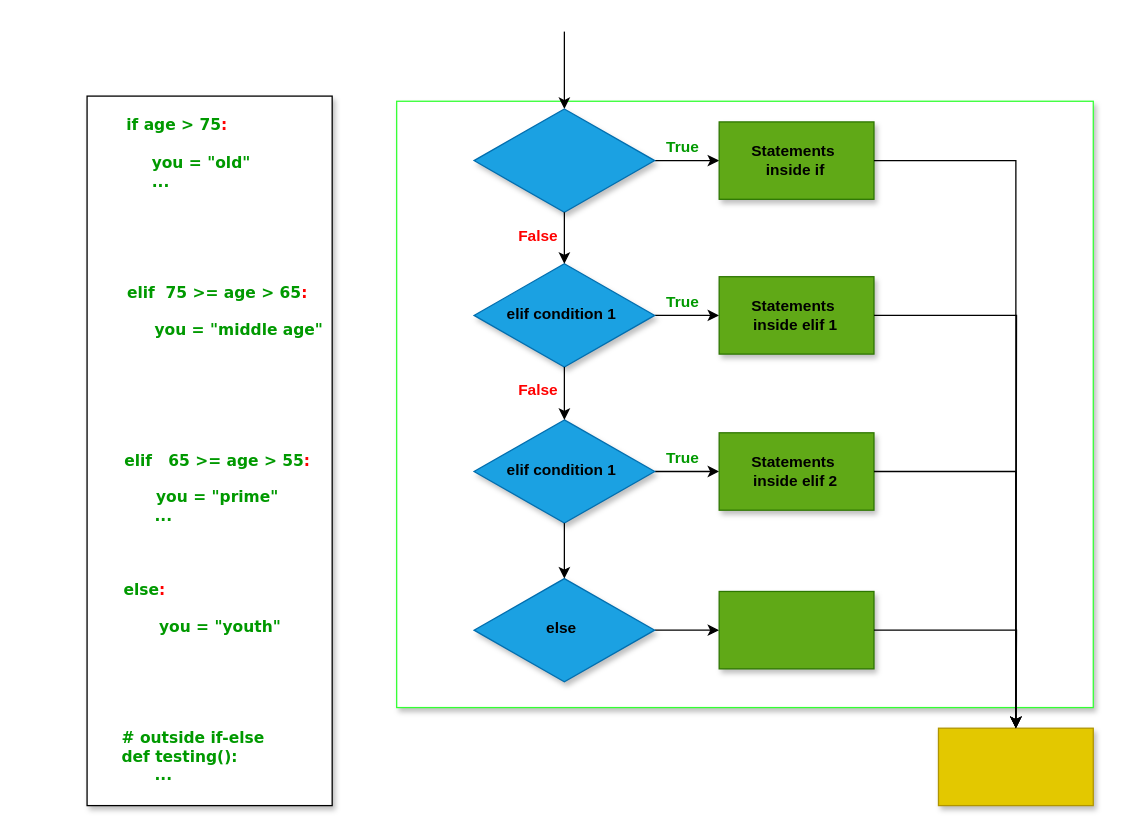
Image size: 1124x837. Some labels were removed from this diagram. Here are the shapes that lost their labels. From the top down, the centre of each, then its label:
the point at 565,162: if condition
the point at 797,631: Statements inside else
the point at 1016,768: Statements after if-else
